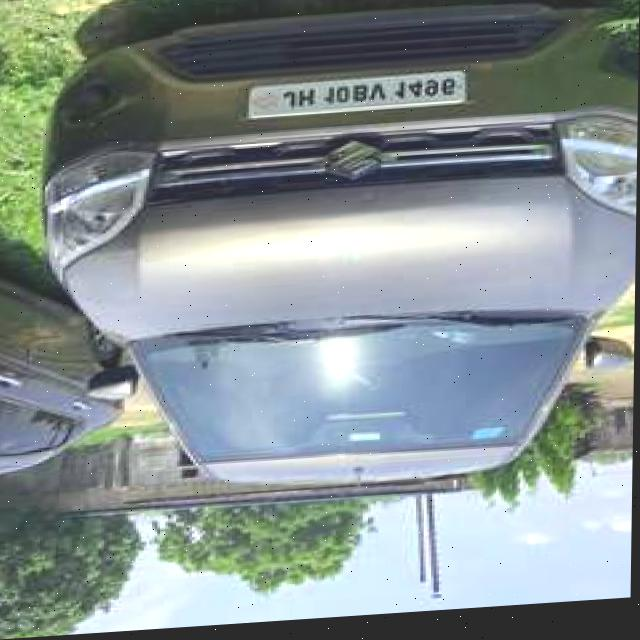plate: (247, 74, 466, 124)
